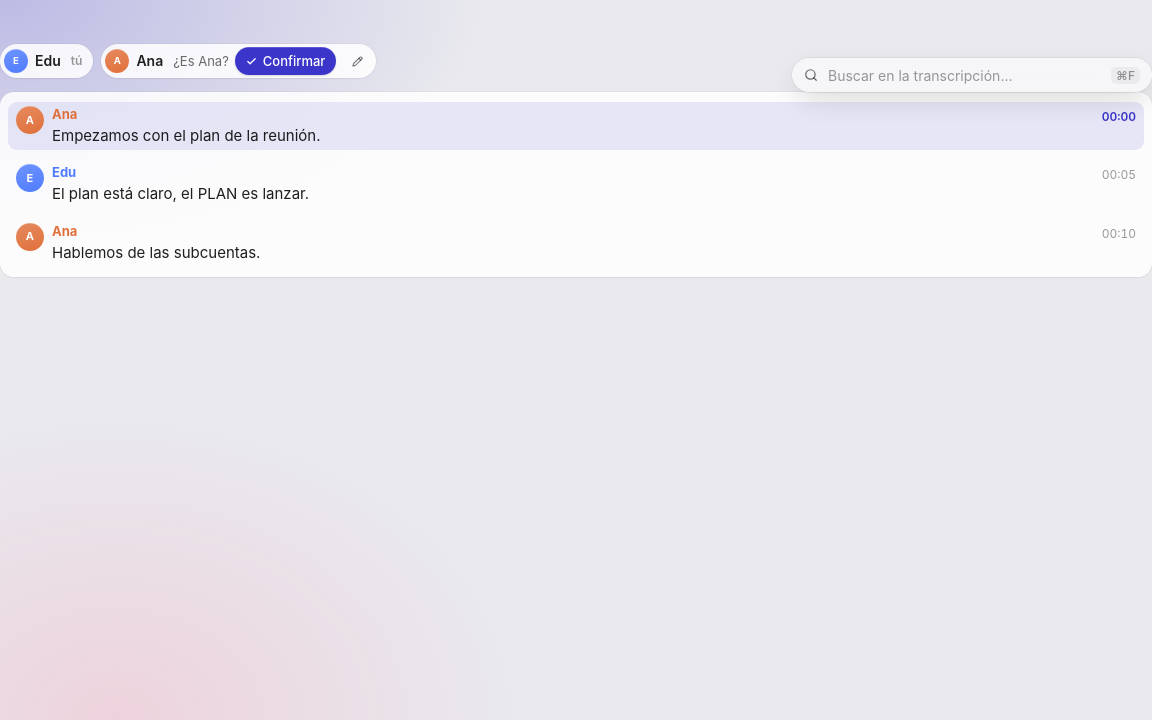
Test: buscar en el transcript › resalta las coincidencias y las cuenta, sin distinguir tildes ni mayúsculas
Step 1. Type "plan" into the search field labelled "Buscar en la transcripción" → (964, 75), box [824,58,1105,92]
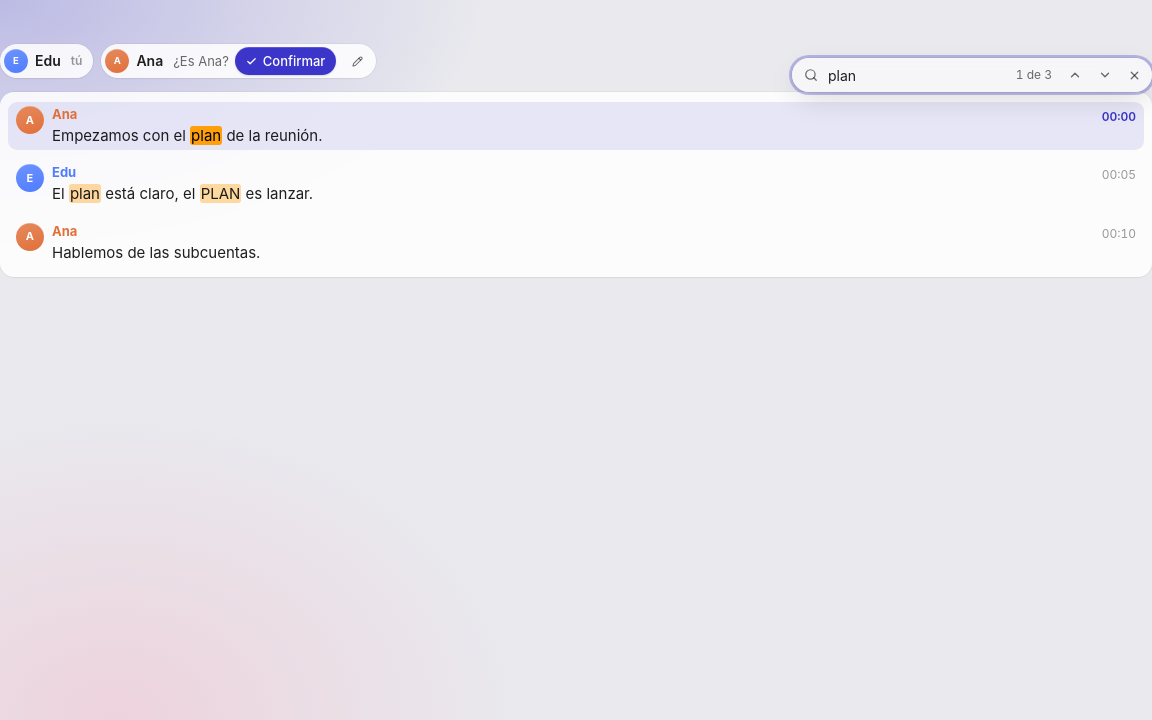
Check: the text "1 de 3" is shown, box [1016,67,1052,82]
Check: the number of elements with class "hit" is 3, box [190,126,222,145]; [69,184,101,203]; [200,184,241,203]
Step 2. Clear the search field named "Buscar en la transcripción" → (915, 75), box [824,58,1006,92]
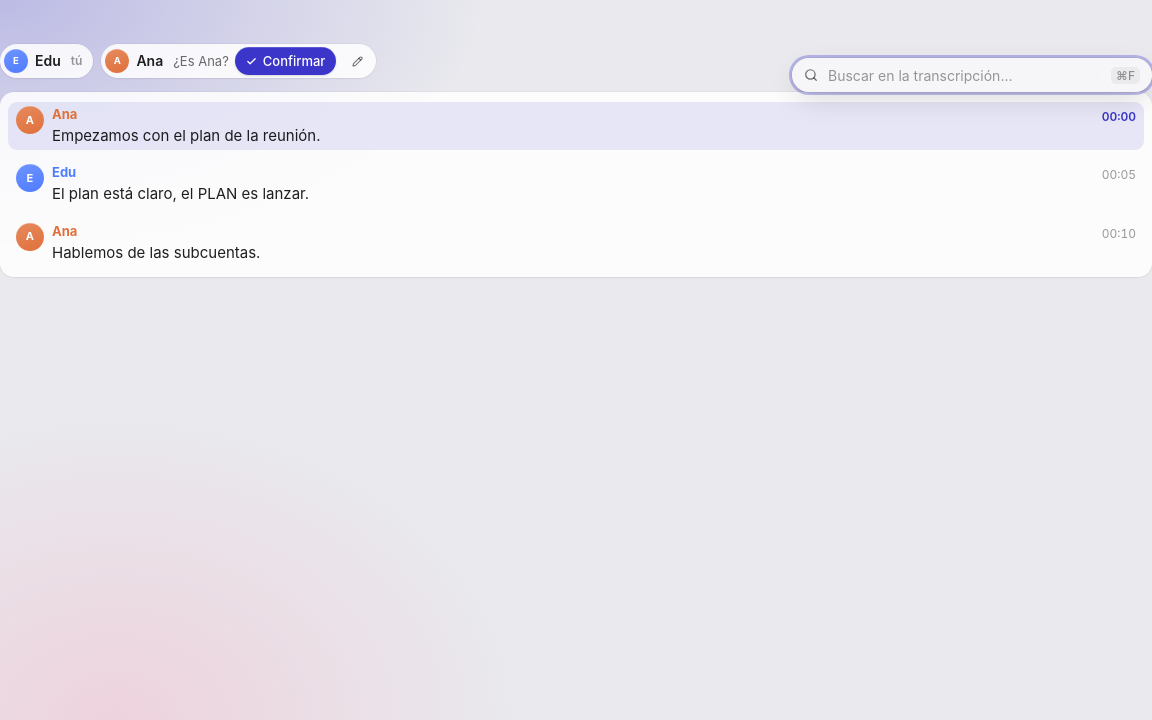
Step 3. Type "reunion" into the search field labelled "Buscar en la transcripción" → (964, 75), box [824,58,1105,92]
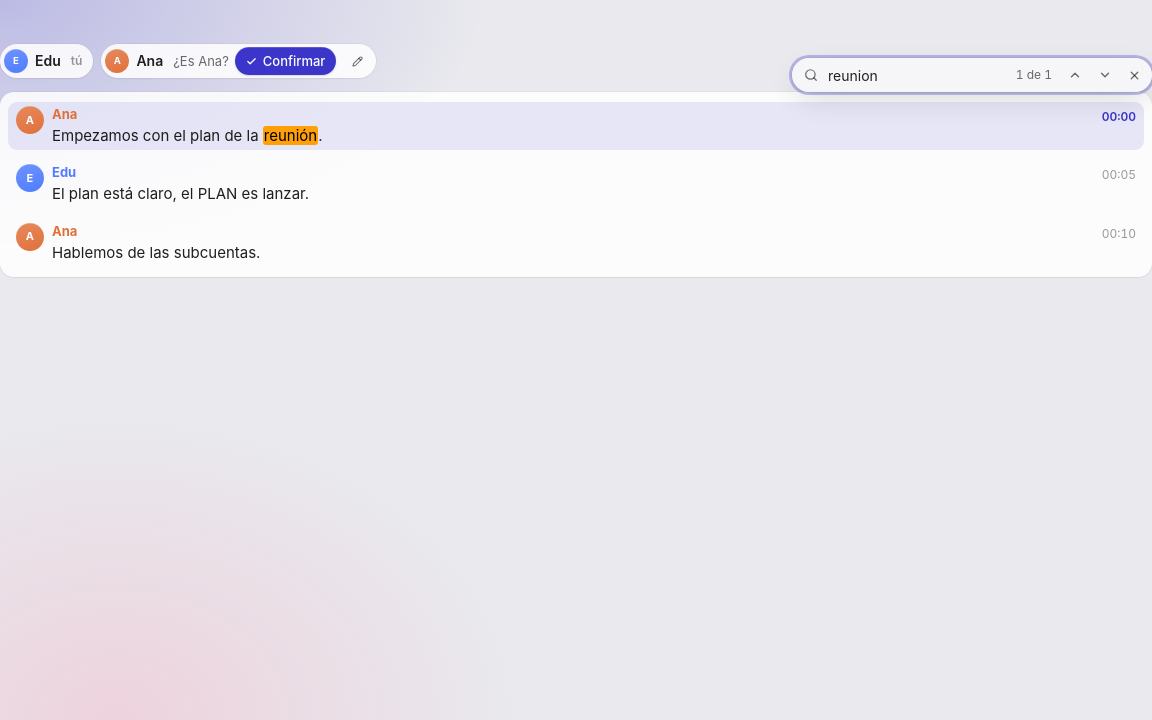
Check: the text with class "hit" reads "reunión", box [264,126,317,145]
Check: the text "1 de 1" is shown, box [1016,67,1052,82]
